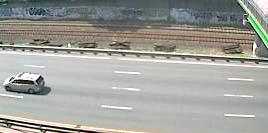car: (1, 70, 48, 96)
